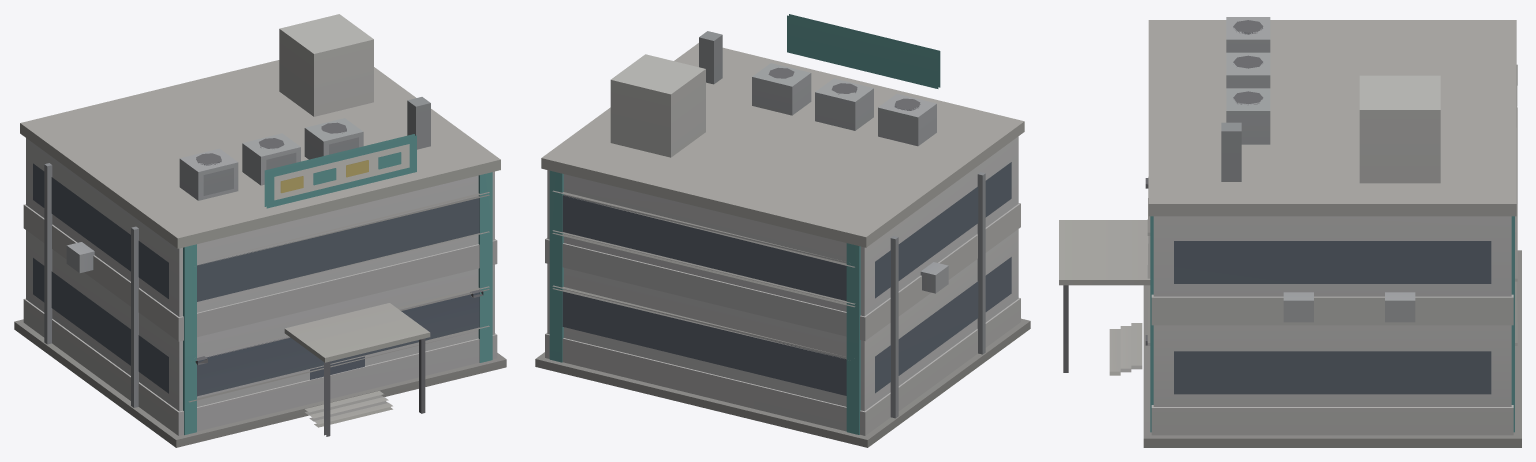
File: fc_office.lod.glb
The picture shows the model from 3 angles, left to right: view 1: azimuth 30°, elevation 25°; view 2: azimuth 150°, elevation 25°; view 3: azimuth 270°, elevation 25°; orthographic projection. The views are drawn at different scales.
Visible parts, largest first — view 1: fc_office; view 2: fc_office; view 3: fc_office.
Boxes of the visible parts, box(x1,y1,x2,y2) form: fc_office: box(14, 14, 506, 447); fc_office: box(535, 14, 1030, 447); fc_office: box(1059, 17, 1521, 447).
Bounding box in the file's own units: 13.8 × 10.31 × 13.7.
